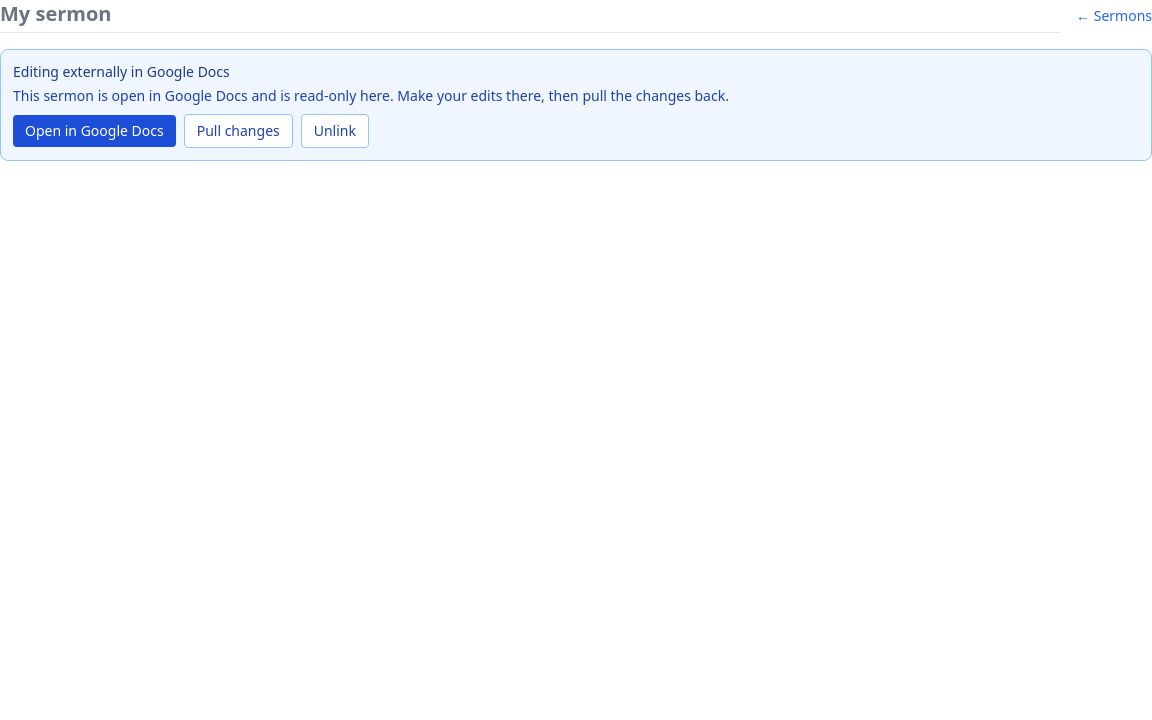
Scenario: SermonEditor — external-editor link (Phase 45) › Unlink offers BOTH choices; keep-app POSTs {mode:'keep-app'} and returns to editable
This screenshot has width=1152, height=720.
# Open the choice dialog.
Click the button "Unlink". click: coordinates (335, 131)
box: [301, 114, 369, 148]
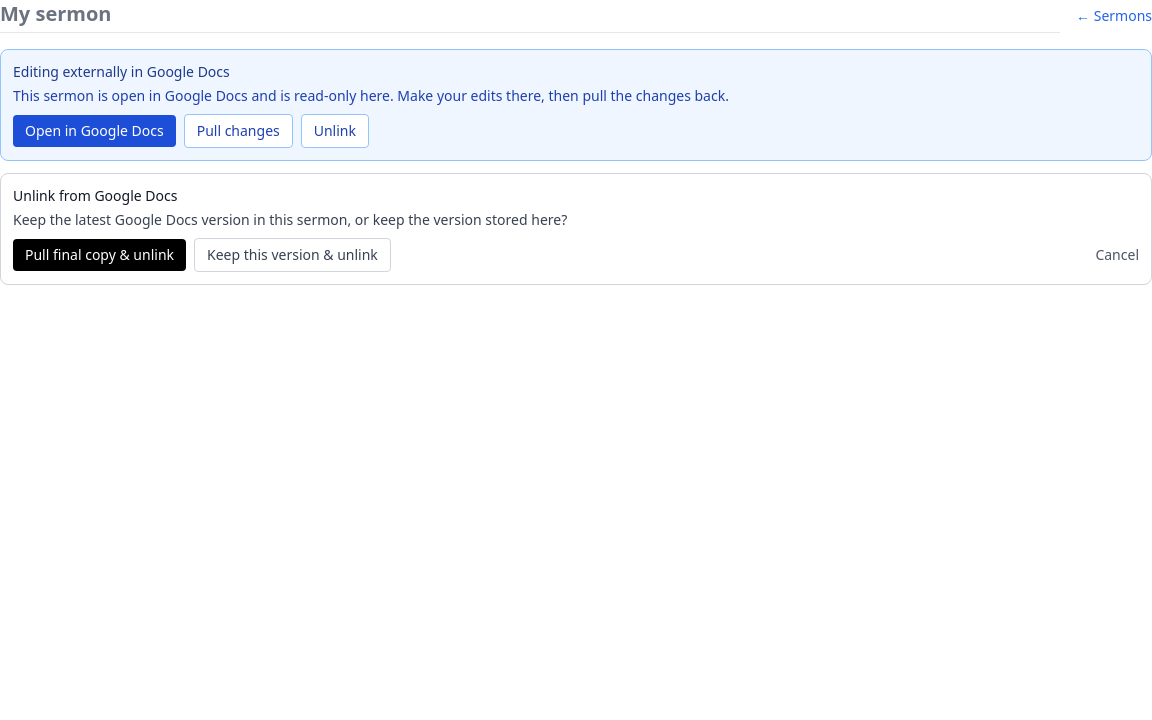
Check: the dialog with test id "unlink-dialog" is shown, box [0, 173, 1151, 285]
Check: the button "Pull final copy & unlink" is shown, box [13, 239, 186, 271]
Check: the button "Keep this version & unlink" is shown
Click the button "Keep this version & unlink". click: coordinates (292, 255)
box: [194, 238, 391, 272]
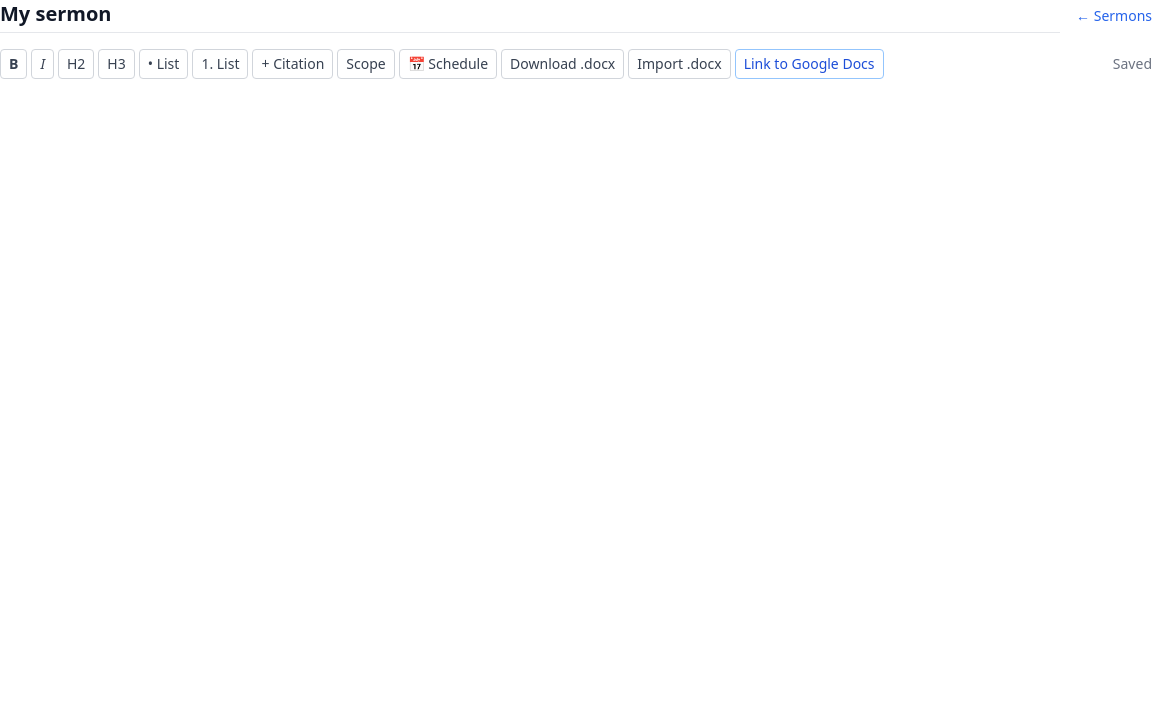
Check: the button named "Bold" is shown, box [0, 49, 27, 79]
Check: the element with test id "editing-externally-banner" is gone
